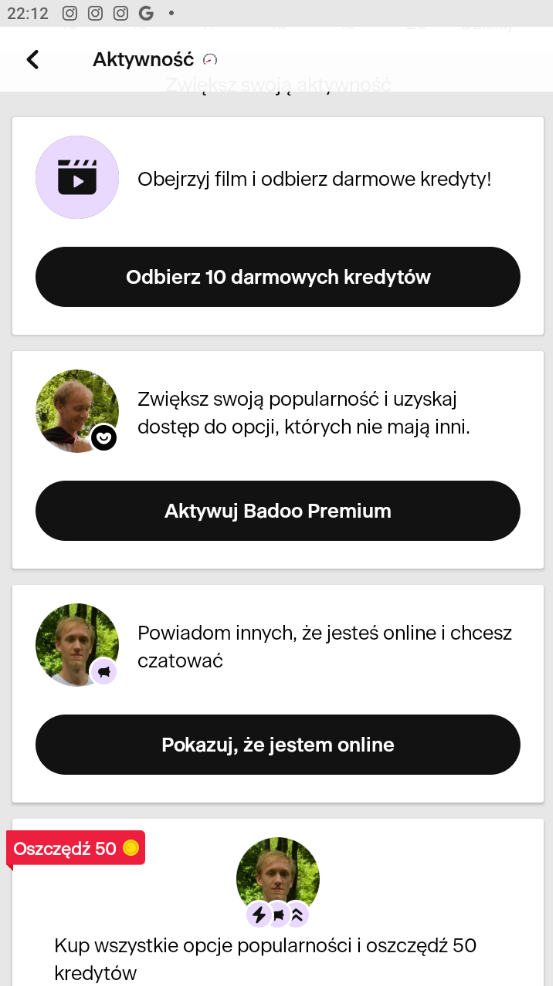kupno_button: (36, 477, 524, 544), (37, 714, 524, 774)
start_button: (41, 250, 521, 309)
